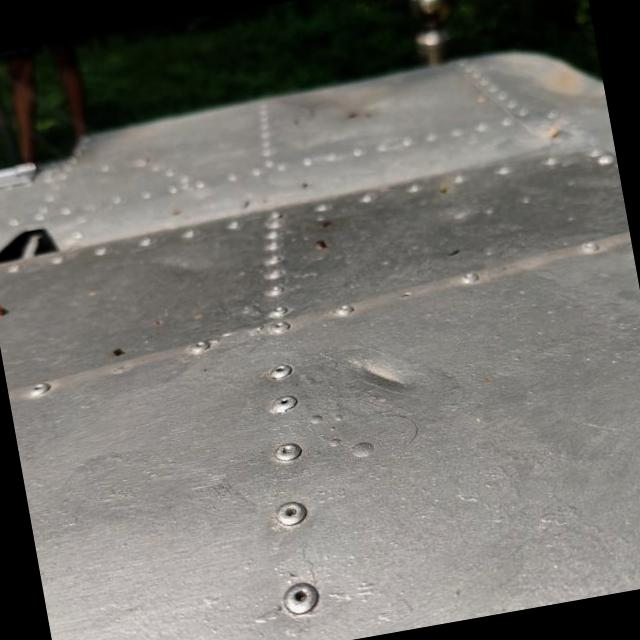dent: (336, 336, 422, 419)
